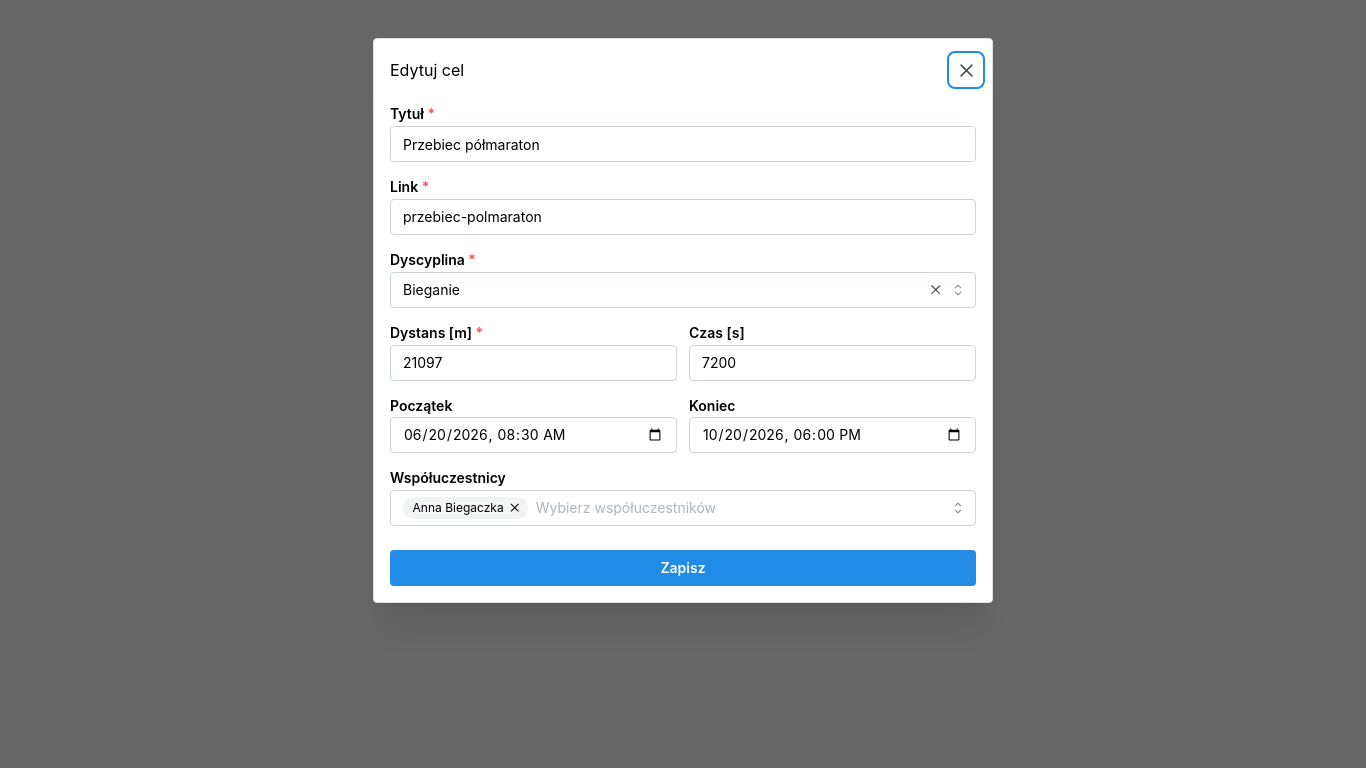
Test case: GoalFormModal › loads existing goal values and updates without losing the owner or existing participants
Expected: the field labelled "Link" holds "przebiec-polmaraton", x1=390 y1=199 x2=976 y2=235
Expected: the field labelled "Dystans [m]" holds "21097", x1=390 y1=345 x2=677 y2=381
Replace the text in the field labelled "Tytuł" with "Ukończyć półmaraton". click: (683, 144)
box: x1=390 y1=126 x2=976 y2=162
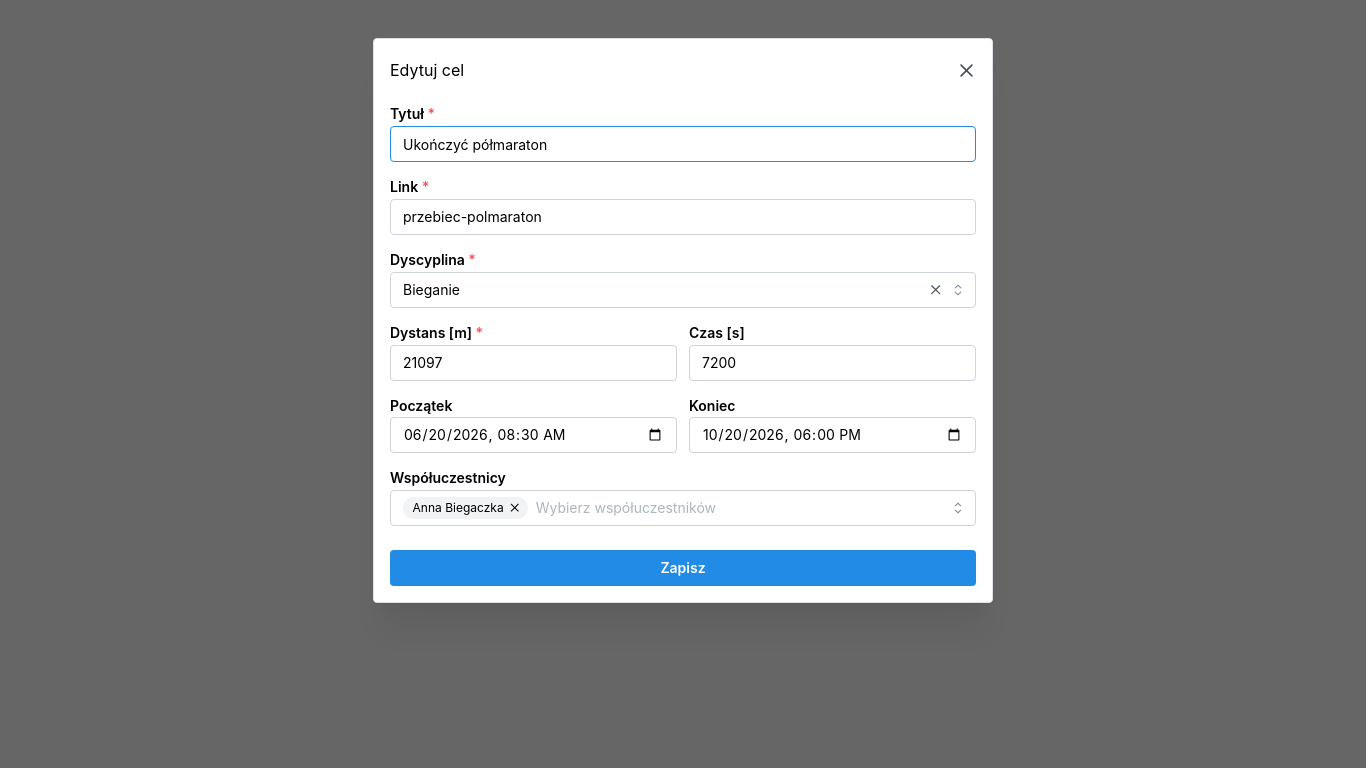
Click the button "Zapisz". click: (683, 568)
box: x1=390 y1=550 x2=976 y2=586
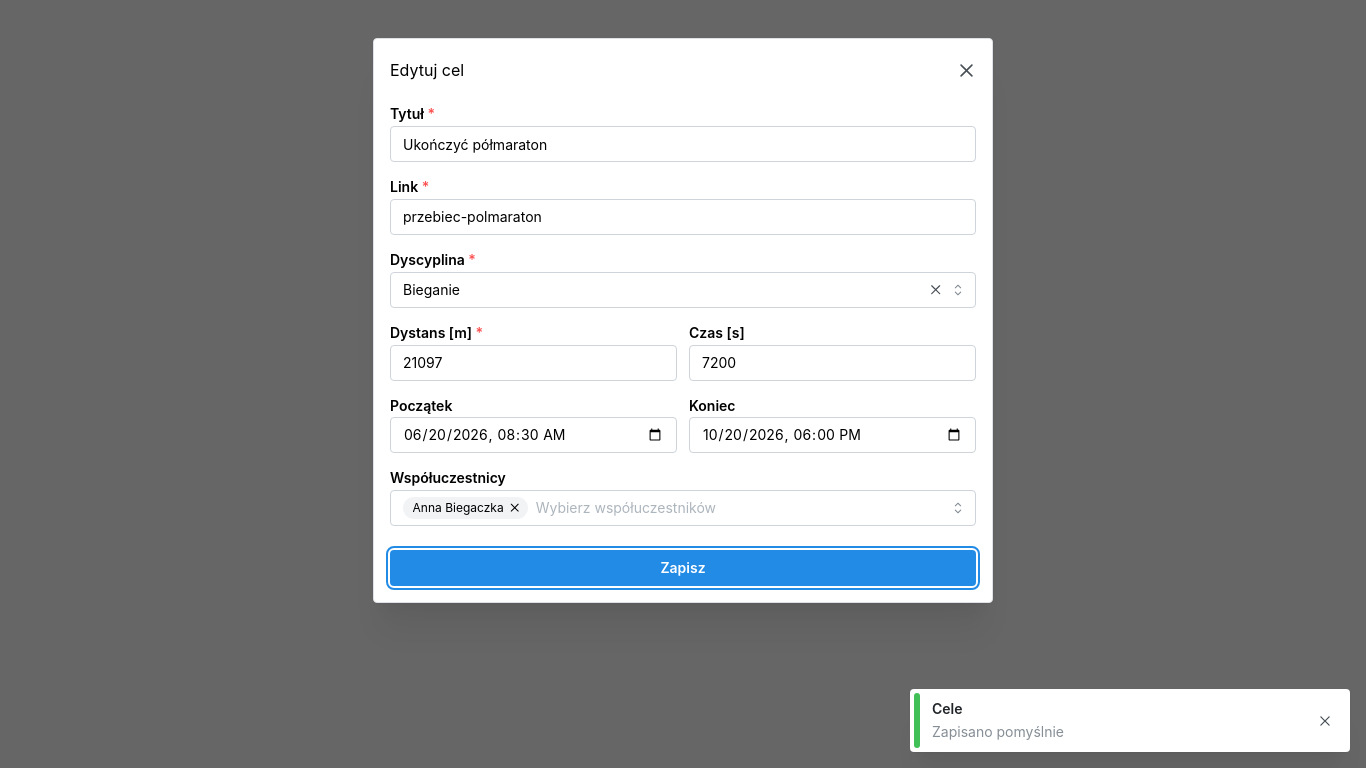
Result: the text "Zapisano pomyślnie" is shown at x1=932 y1=723 x2=1064 y2=740
